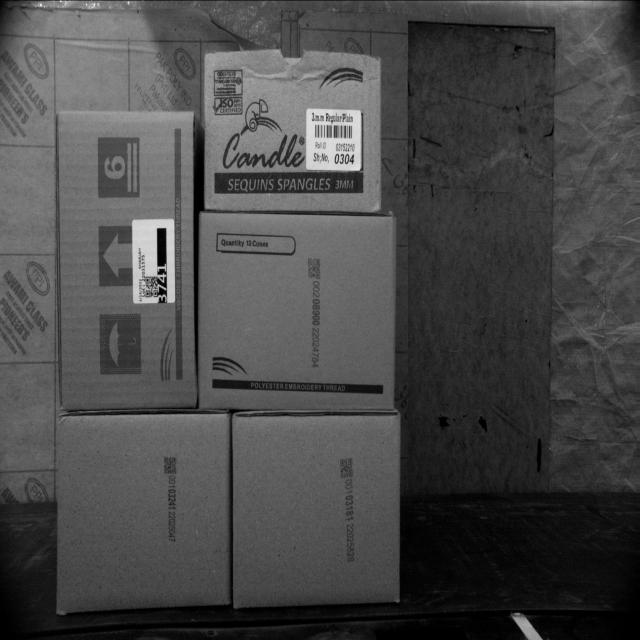cardboxes: (54, 109, 200, 412), (197, 212, 394, 409), (56, 414, 232, 613), (235, 410, 401, 602), (204, 50, 382, 214)
